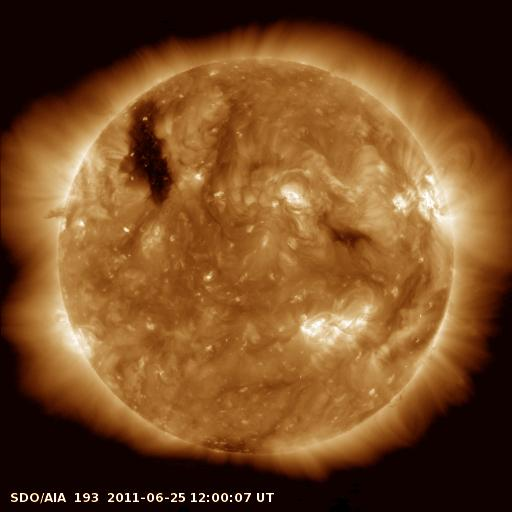coronal_hole: (117, 97, 183, 211), (326, 224, 379, 248)
